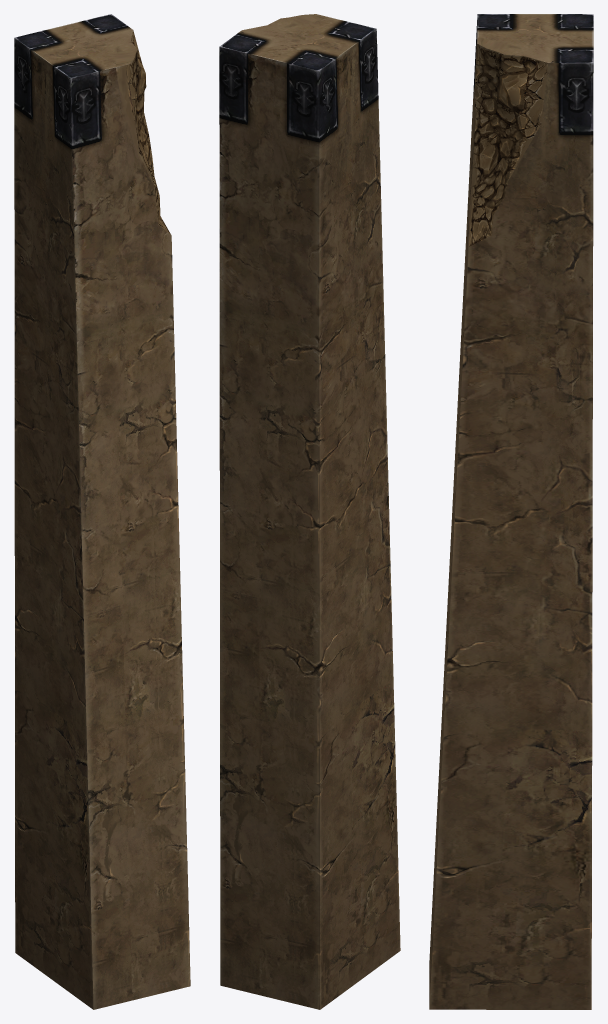
File: A_zhuzi002.fbx
3 views of the same model, side by side, from view 1: azimuth 30°, elevation 25°; view 2: azimuth 150°, elevation 25°; view 3: azimuth 270°, elevation 25° (orthographic). The views are drawn at different scales.
Visible parts, largest first — view 1: A_zhuzi002; view 2: A_zhuzi002; view 3: A_zhuzi002.
Part boxes in pixels (x1,y1,x2,y2): A_zhuzi002: (14, 14, 190, 1009); A_zhuzi002: (219, 14, 400, 1009); A_zhuzi002: (429, 14, 593, 1009).
Size of the model in its own units: 200 by 1800 by 283.
